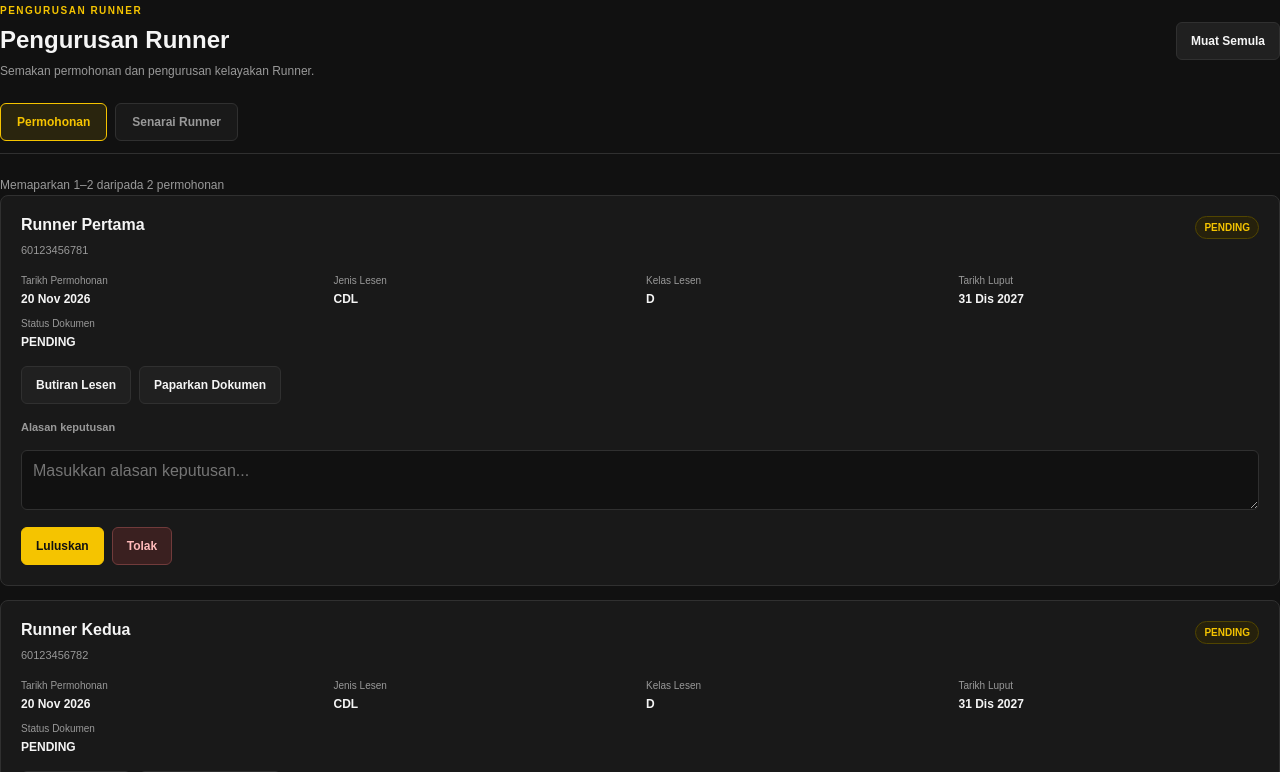
Test: RunnerApplicationsPage race conditions › memaparkan dokumen lesen hanya pada kad Runner pemiliknya
The image size is (1280, 772).
Expected: the heading "Runner Pertama" is shown, top-left (21, 216), bottom-right (145, 234)
Expected: the heading "Runner Kedua" is shown, top-left (21, 621), bottom-right (130, 639)
Click the button "Paparkan Dokumen" below "60123456781" at (210, 385), box top-left (139, 366), bottom-right (281, 404)
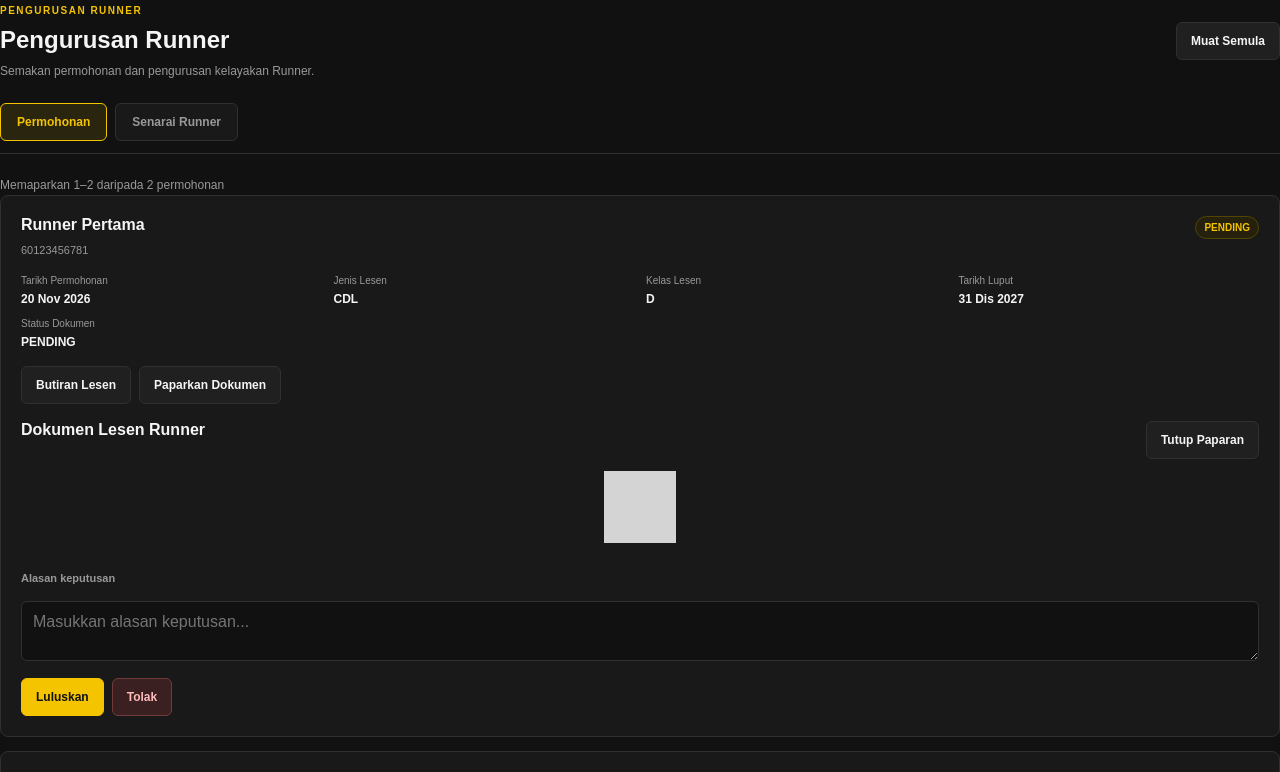
Click the button "Tutup Paparan" at (1202, 440), box top-left (1146, 421), bottom-right (1259, 459)
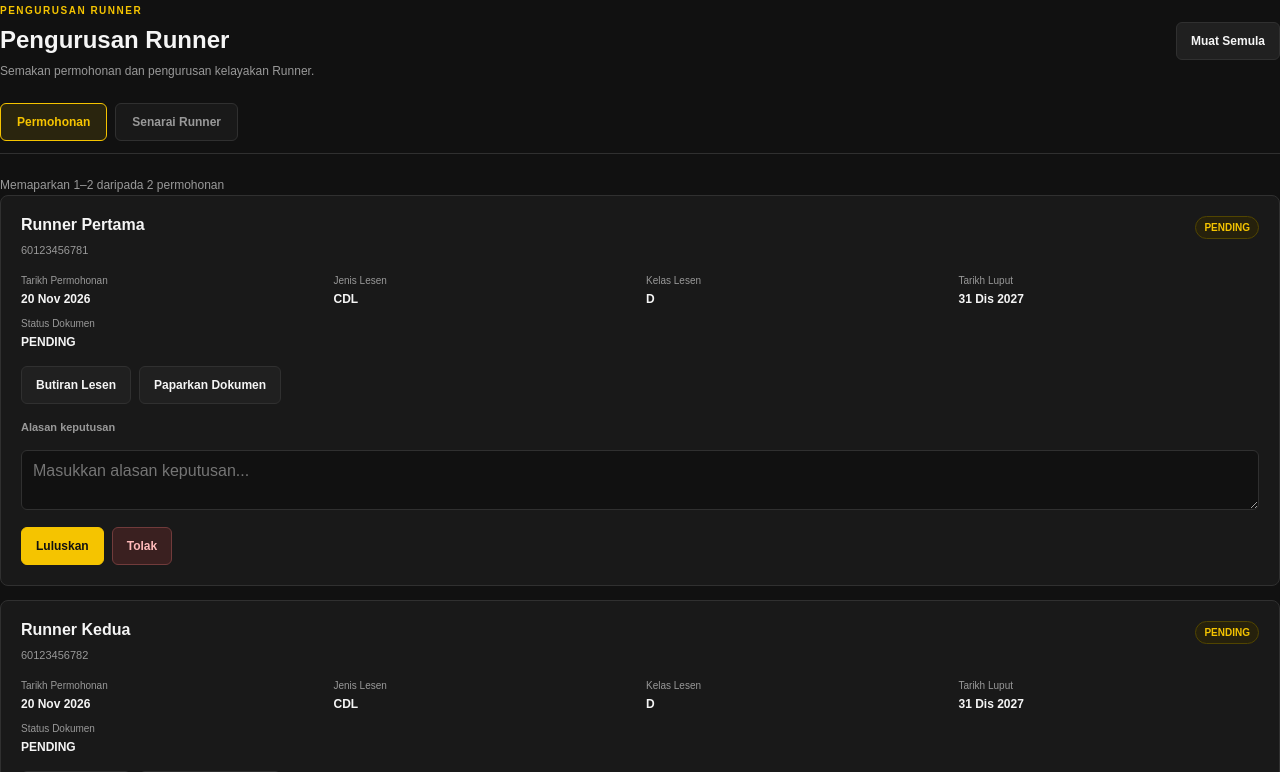
Now the text with alt text "Dokumen lesen Runner" is gone
